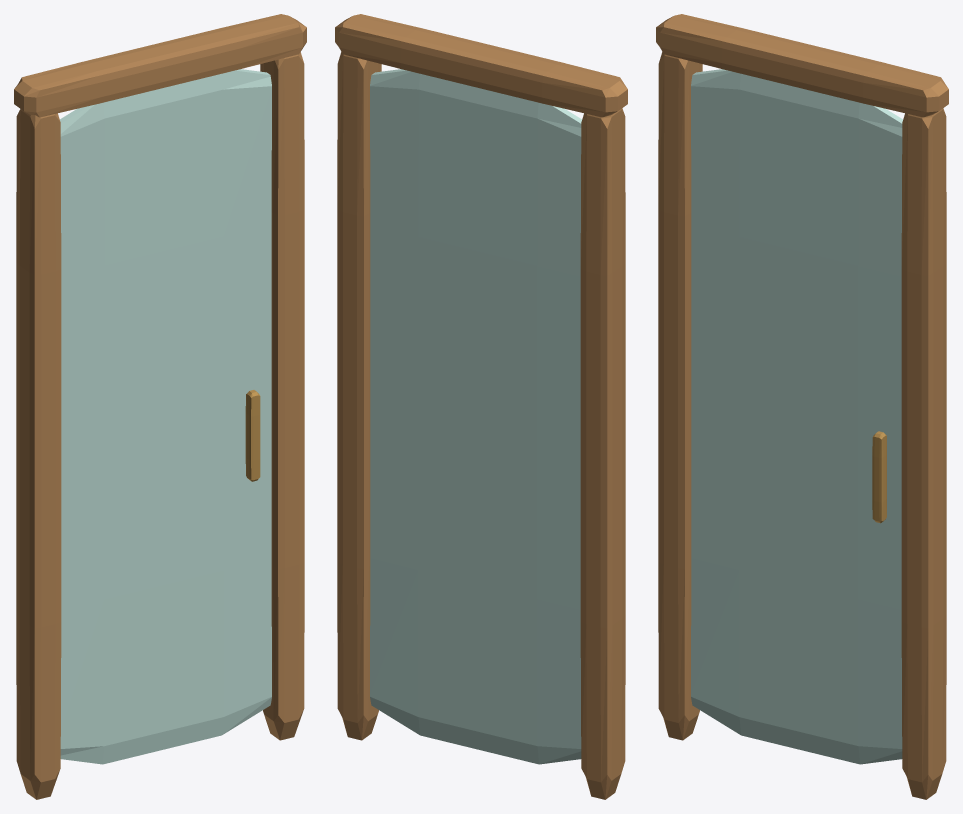
File: better.glb
3 views of the same model, side by side, from view 1: azimuth 30°, elevation 25°; view 2: azimuth 150°, elevation 25°; view 3: azimuth 330°, elevation 25° (orthographic).
Parts seen in each view (by area): view 1: Native component 3, Native component 0, Native component 4; view 2: Native component 3, Native component 0; view 3: Native component 3, Native component 0, Native component 4.
Boxes of the visible parts, x1=… form: Native component 3: x1=59, y1=69, x2=271, y2=764; Native component 0: x1=14, y1=14, x2=306, y2=799; Native component 4: x1=245, y1=390, x2=260, y2=481; Native component 3: x1=370, y1=69, x2=582, y2=764; Native component 0: x1=335, y1=14, x2=627, y2=799; Native component 3: x1=691, y1=69, x2=903, y2=764; Native component 0: x1=656, y1=14, x2=948, y2=799; Native component 4: x1=872, y1=431, x2=886, y2=523.
Bounding box in the file's own units: 1 × 2.41 × 0.1245.
